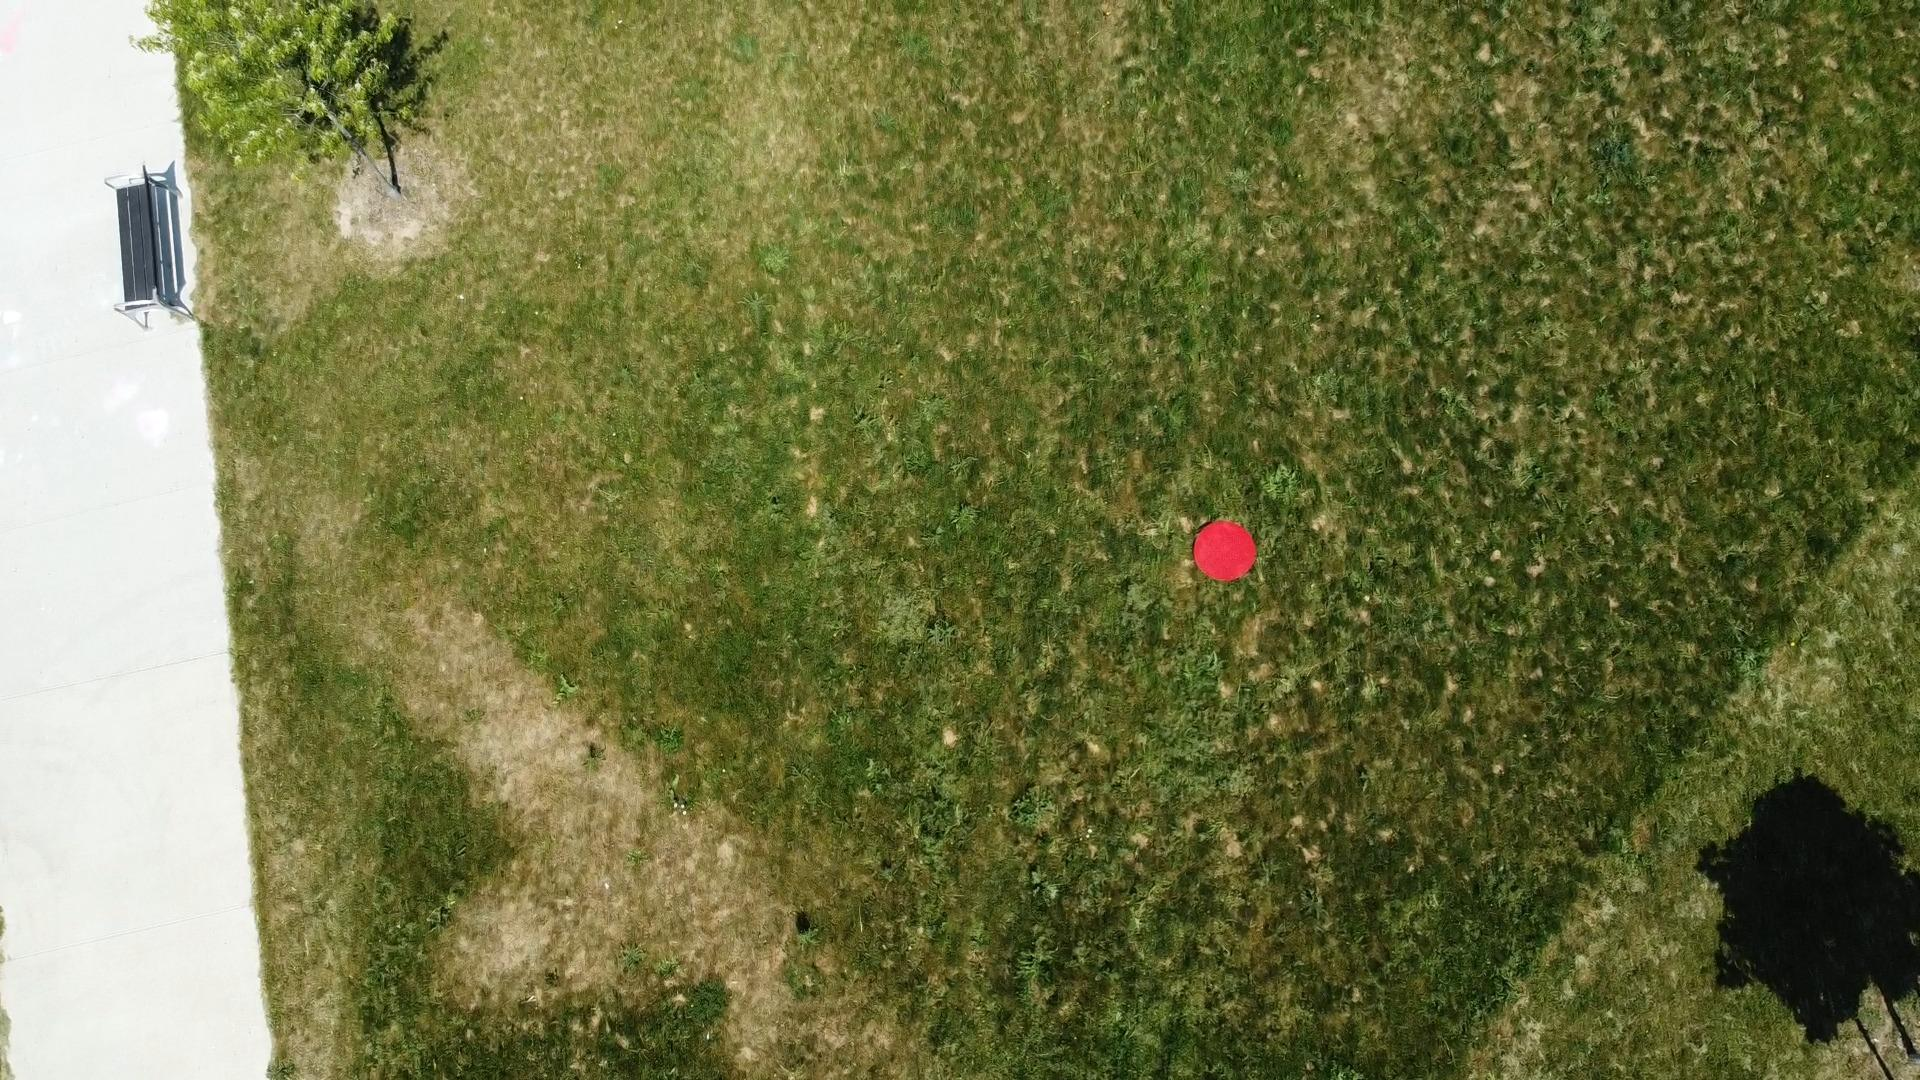Red: (1189, 520, 1259, 584)
